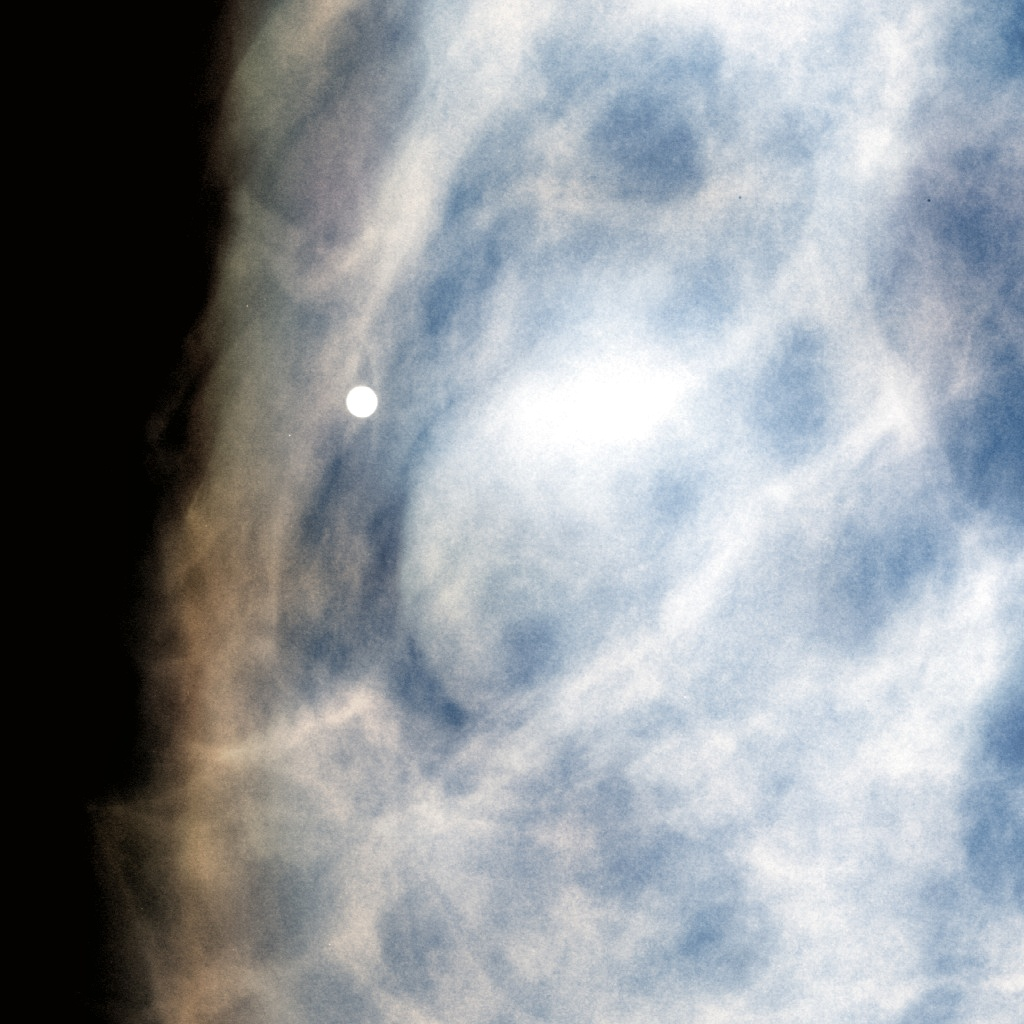tumor: (334, 267, 690, 757)
